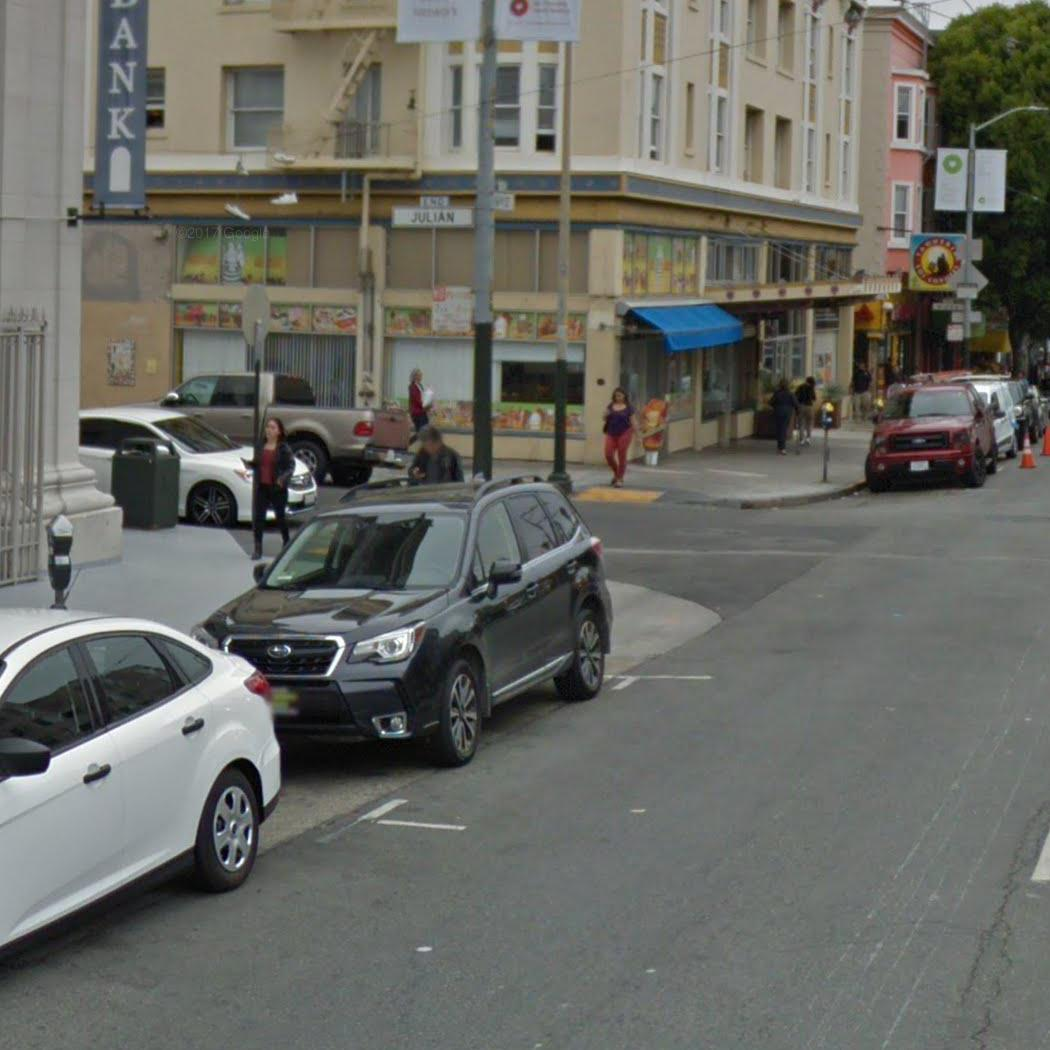No Parking: (430, 285, 472, 335)
